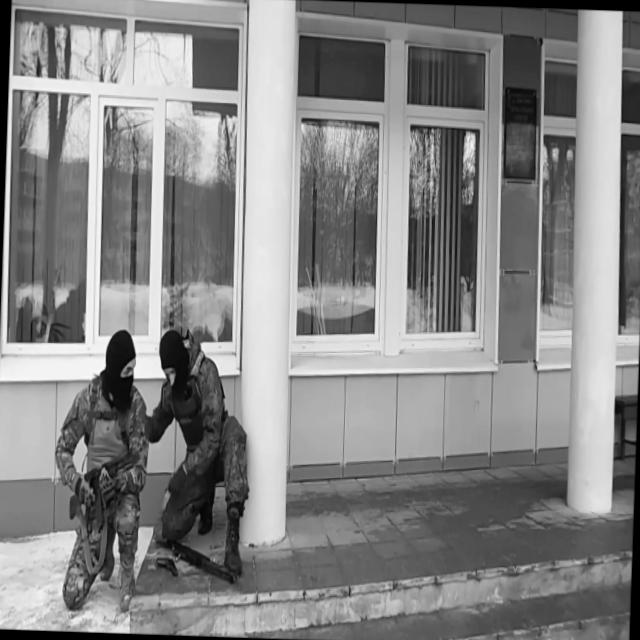gun: (67, 447, 142, 536), (152, 526, 240, 586), (155, 553, 180, 578)
person with a gun: (144, 320, 258, 589), (48, 325, 153, 613)
